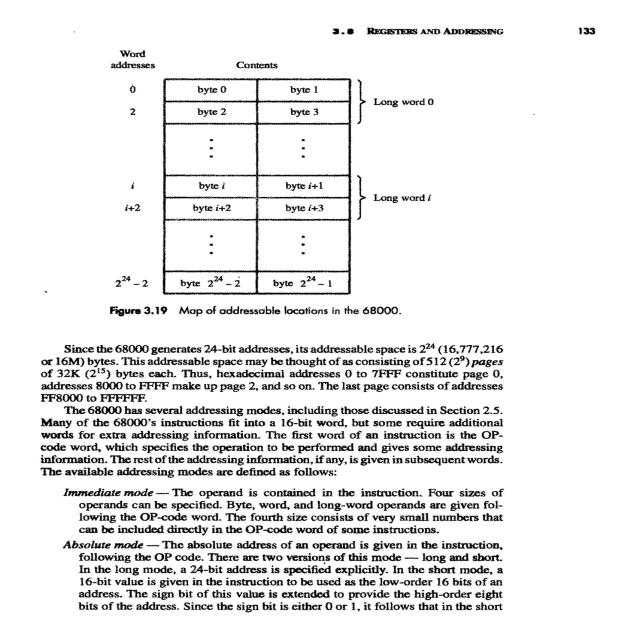diagram: (62, 41, 433, 330)
